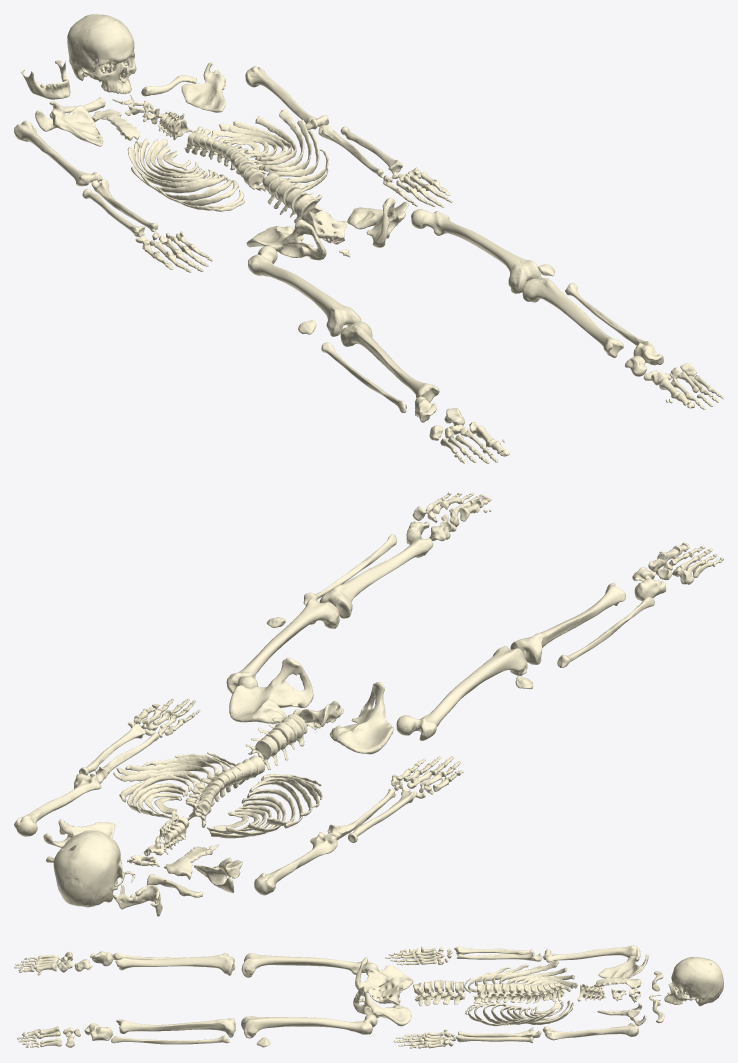
The model's file is skeleton.glb.
The picture shows the model from 3 angles, top to bottom: view 1: azimuth 30°, elevation 25°; view 2: azimuth 150°, elevation 25°; view 3: azimuth 270°, elevation 25°; orthographic projection. The views are drawn at different scales.
Parts seen in each view (by area): view 1: Cranium, l_femur, r_femur, l_tibia, r_oscoxa, r_tibia, l_oscoxa, r_scapula, l_scapula, l_humerus, r_humerus, Sacrum (+3 smaller); view 2: Cranium, l_oscoxa, r_femur, r_oscoxa, l_femur, l_tibia, r_tibia, l_humerus, r_humerus, r_scapula, r_fibula, l_fibula (+5 smaller); view 3: Cranium, l_femur, r_femur, r_tibia, l_tibia, l_oscoxa, r_oscoxa, r_humerus, l_humerus, r_scapula, Sacrum, l_fibula (+21 smaller).
Boxes of the visible parts, <box> form: Cranium: <box>67,14,136,94</box>; l_femur: <box>411,209,541,293</box>; r_femur: <box>248,246,361,336</box>; l_tibia: <box>522,278,623,357</box>; r_oscoxa: <box>246,219,326,260</box>; r_tibia: <box>340,321,439,402</box>; l_oscoxa: <box>347,197,408,247</box>; r_scapula: <box>35,101,103,146</box>; l_scapula: <box>181,62,225,112</box>; l_humerus: <box>245,66,329,130</box>; r_humerus: <box>14,120,102,186</box>; Sacrum: <box>302,211,347,244</box>; Cranium: <box>53,830,124,907</box>; l_oscoxa: <box>229,657,313,724</box>; r_femur: <box>396,646,527,740</box>; r_oscoxa: <box>329,682,393,754</box>; l_femur: <box>226,598,339,693</box>; l_tibia: <box>319,538,433,618</box>; r_tibia: <box>510,582,625,664</box>; l_humerus: <box>14,773,101,836</box>; r_humerus: <box>254,832,337,895</box>; r_scapula: <box>194,857,242,892</box>; r_fibula: <box>557,597,654,667</box>; l_fibula: <box>303,534,396,605</box>; Cranium: <box>664,957,723,1006</box>; l_femur: <box>241,1014,377,1038</box>; r_femur: <box>241,953,378,977</box>; r_tibia: <box>115,954,235,975</box>; l_tibia: <box>116,1018,235,1037</box>; l_oscoxa: <box>353,986,411,1026</box>; r_oscoxa: <box>355,957,413,992</box>; r_humerus: <box>543,945,638,962</box>; l_humerus: <box>542,1023,638,1040</box>; r_scapula: <box>598,948,648,978</box>; Sacrum: <box>367,977,403,1005</box>; l_fibula: <box>111,1035,229,1044</box>.
Size of the model in its own units: 0.7697 by 0.1582 by 2.36.
